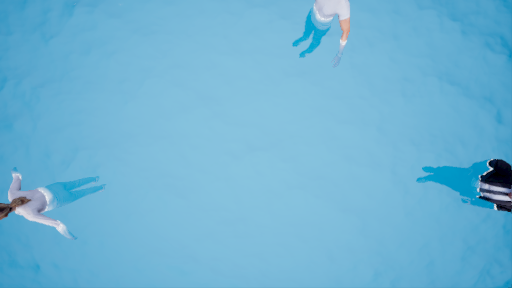person: (2, 169, 109, 237), (291, 1, 359, 72)
